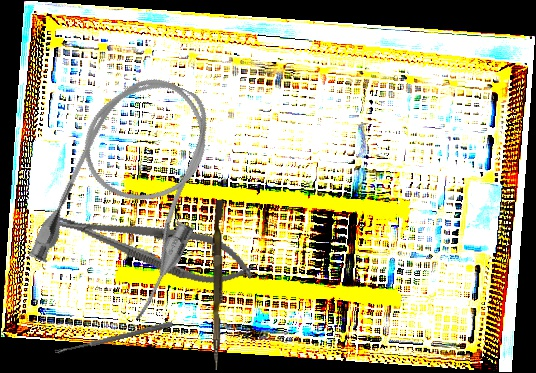Cannula: (22, 58, 245, 326)
Needle Holder: (50, 195, 259, 296)
Pusher: (210, 199, 226, 371)
Surgical Spoon: (54, 320, 173, 356)
